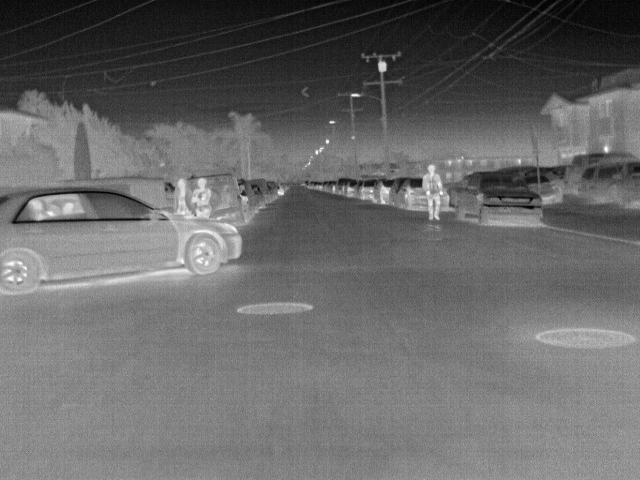car: (1, 185, 244, 300), (452, 169, 545, 227), (572, 160, 630, 206), (209, 175, 248, 230), (568, 152, 608, 194), (521, 169, 565, 204), (395, 177, 427, 207), (377, 176, 400, 204), (249, 183, 269, 210), (255, 181, 275, 205), (361, 180, 379, 202), (336, 177, 354, 195), (346, 180, 359, 199)
person: (421, 165, 445, 222), (187, 176, 214, 220), (169, 179, 195, 217)
